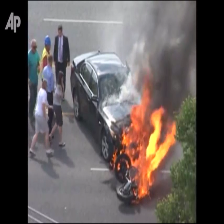fire_h: (119, 67, 177, 197)
fire_l: (110, 148, 118, 169), (117, 157, 129, 170)
